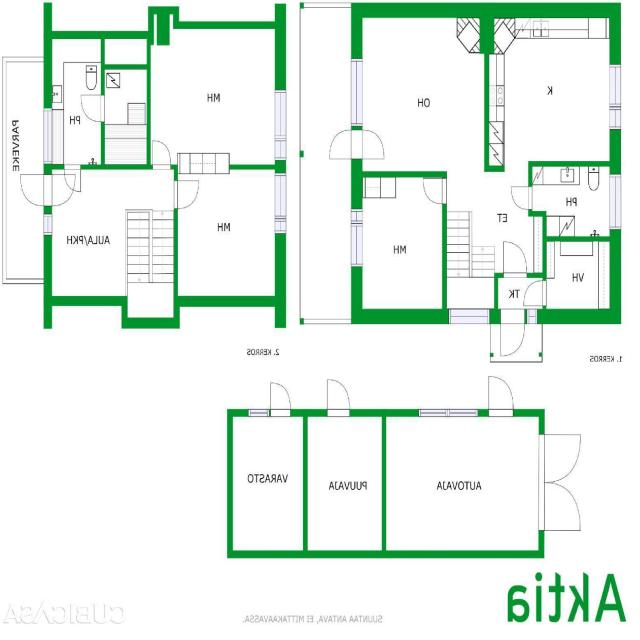door: (538, 482, 581, 531), (538, 434, 581, 482), (501, 308, 525, 356), (20, 174, 52, 206), (44, 174, 76, 206), (329, 130, 363, 159), (351, 130, 385, 159), (489, 376, 513, 417), (327, 378, 350, 417), (503, 242, 527, 278), (270, 383, 290, 417), (174, 181, 198, 208), (424, 178, 447, 204), (82, 96, 105, 122), (524, 280, 546, 306), (153, 141, 171, 170), (512, 187, 532, 209), (65, 165, 81, 191)
